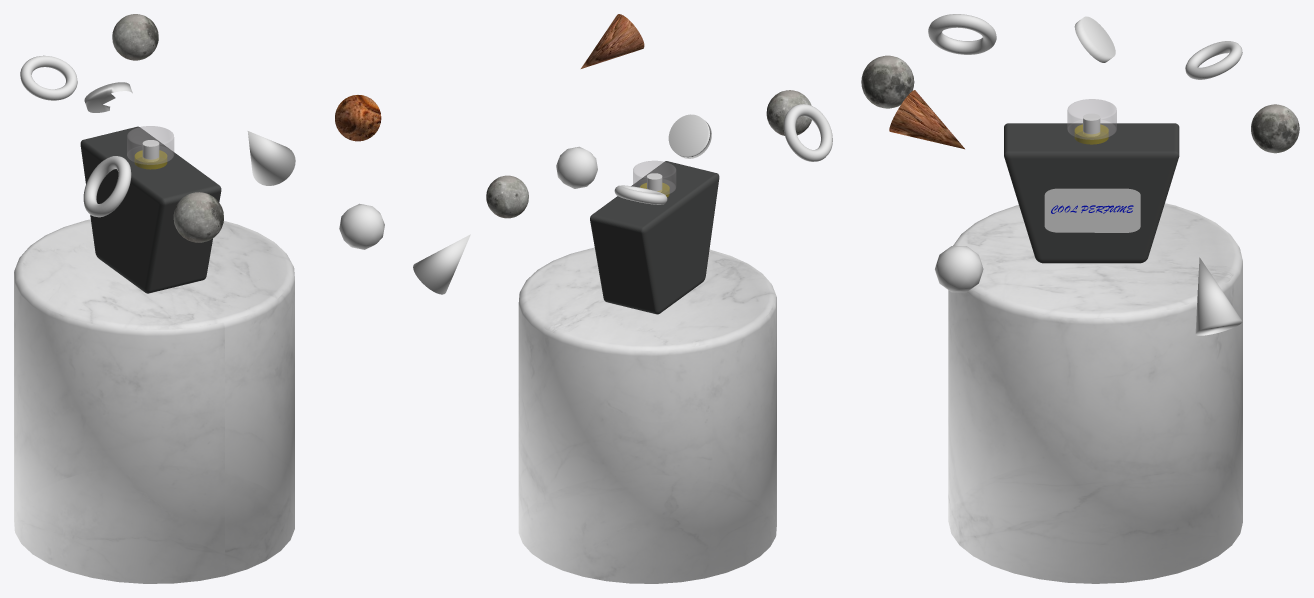
3 renders of one model, left to right at view 1: azimuth 30°, elevation 25°; view 2: azimuth 150°, elevation 25°; view 3: azimuth 270°, elevation 25°, orthographic. The views are drawn at different scales.
Parts seen in each view (by area): view 1: Cylinder.003, Cube, Sphere, Cone.001, Torus, Sphere.001, Cone, Cylinder.002, Icosphere, Torus.001, Cylinder.004; view 2: Cylinder.003, Cube, Cone.001, Torus, Cone, Cylinder.004, Sphere.001, Icosphere, Sphere, Cylinder.002, Torus.001; view 3: Cylinder.003, Cube, Plane.001, Sphere, Cone, Cone.001, Sphere.001, Torus, Cylinder.002, Icosphere, Torus.001, Cylinder.004.
Part boxes in pixels (<box>): Cylinder.003: <box>14,219,294,583</box>; Cube: <box>80,126,221,293</box>; Sphere: <box>173,192,223,242</box>; Cone.001: <box>247,131,295,185</box>; Torus: <box>83,156,131,217</box>; Sphere.001: <box>112,14,158,60</box>; Cone: <box>335,95,381,141</box>; Cylinder.002: <box>127,126,173,164</box>; Icosphere: <box>339,203,384,249</box>; Torus.001: <box>20,55,77,100</box>; Cylinder.004: <box>84,82,132,112</box>; Cylinder.003: <box>518,247,776,583</box>; Cube: <box>590,161,719,314</box>; Cone.001: <box>413,234,470,294</box>; Torus: <box>783,104,832,161</box>; Cone: <box>581,14,644,68</box>; Cylinder.004: <box>668,114,711,158</box>; Sphere.001: <box>486,175,528,218</box>; Icosphere: <box>556,146,597,188</box>; Sphere: <box>766,90,811,135</box>; Cylinder.002: <box>633,161,675,194</box>; Torus.001: <box>614,185,667,204</box>; Cylinder.003: <box>948,203,1242,583</box>; Cube: <box>1004,123,1179,263</box>; Plane.001: <box>1044,188,1140,232</box>; Sphere: <box>861,55,914,108</box>; Cone: <box>889,90,964,149</box>; Cone.001: <box>1195,257,1242,335</box>; Sphere.001: <box>1251,104,1299,153</box>; Torus: <box>928,14,996,54</box>; Cylinder.002: <box>1067,99,1116,139</box>; Icosphere: <box>935,246,983,292</box>; Torus.001: <box>1185,41,1242,79</box>; Cylinder.004: <box>1074,16,1115,62</box>.
Bounding box in the file's own units: 16.07 × 22.04 × 17.95.
Materials: 10 (4 with a texture image).
